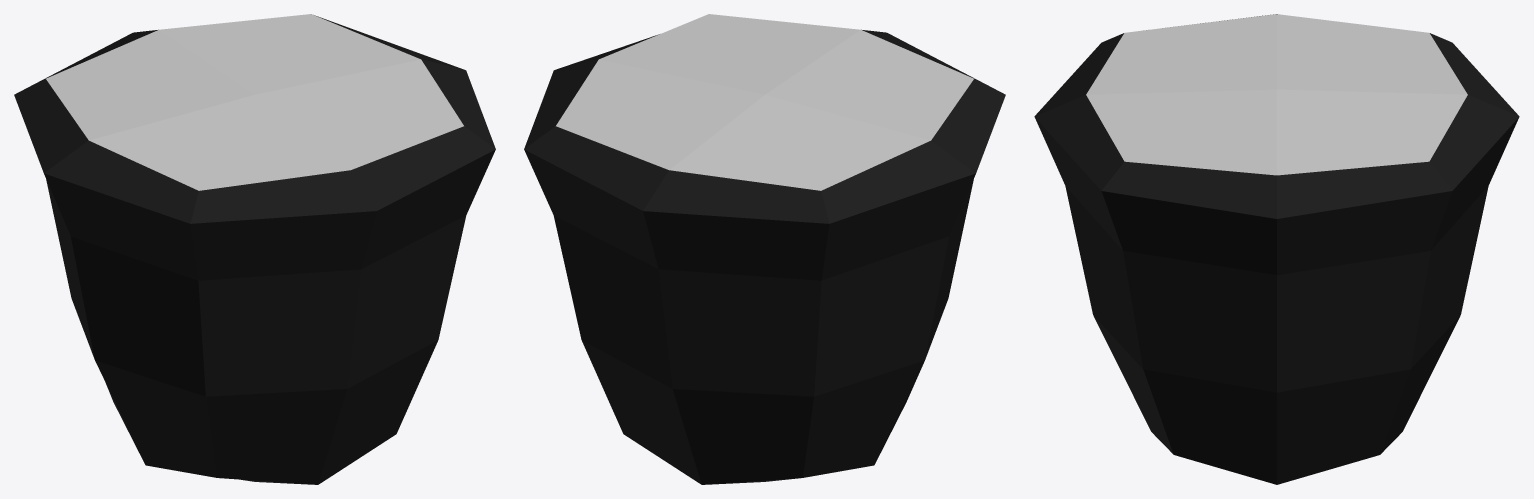
File: bongo1.obj
The picture shows the model from 3 angles, left to right: view 1: azimuth 30°, elevation 25°; view 2: azimuth 150°, elevation 25°; view 3: azimuth 270°, elevation 25°; orthographic projection.
Visible parts, largest first — view 1: Cube.001, Cube.002; view 2: Cube.001, Cube.002; view 3: Cube.001, Cube.002.
Boxes of the visible parts, x1,y1,x2,y2 form: Cube.001: (14,15,495,484); Cube.002: (46,14,463,190); Cube.001: (524,29,1005,484); Cube.002: (556,14,973,190); Cube.001: (1034,14,1519,484); Cube.002: (1086,14,1467,175).
Size of the model in its own units: 1.54 by 1.35 by 1.54.
